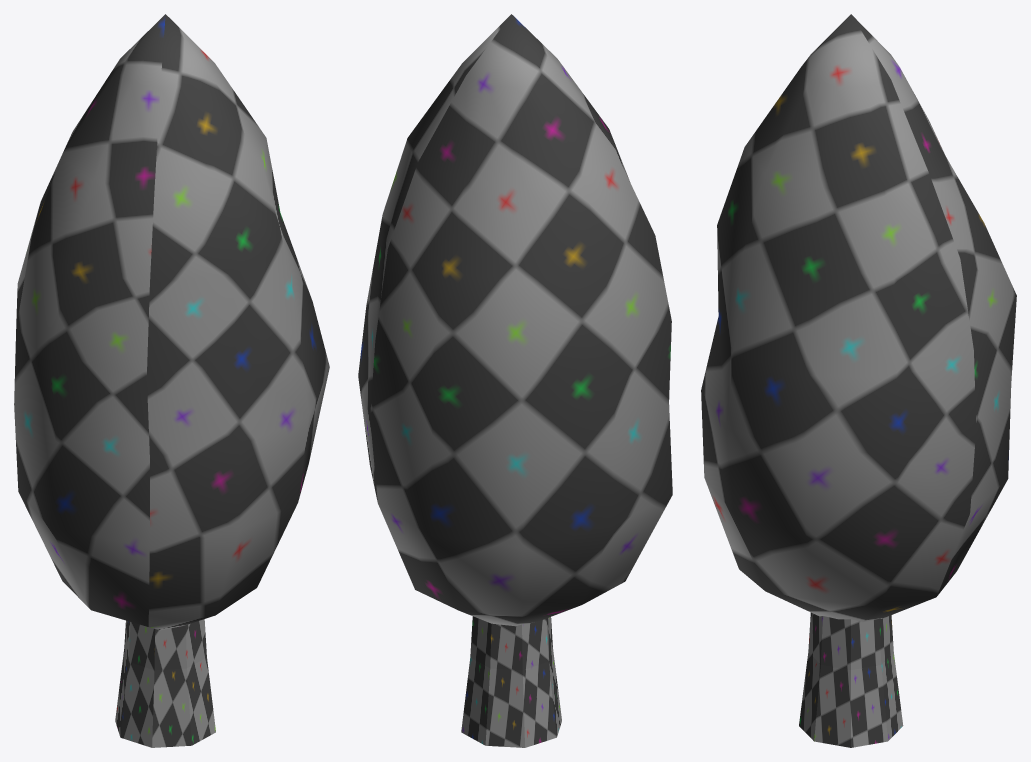
Rendered from Tree1.fbx.
3 renders of one model, left to right at view 1: azimuth 30°, elevation 25°; view 2: azimuth 150°, elevation 25°; view 3: azimuth 270°, elevation 25°, orthographic.
Parts seen in each view (by area): view 1: tree1; view 2: tree1; view 3: tree1.
Boxes of the visible parts, <box> form: tree1: <box>14,14,329,747</box>; tree1: <box>358,14,672,747</box>; tree1: <box>701,14,1016,747</box>.
Size of the model in its own units: 130 by 318 by 128.
